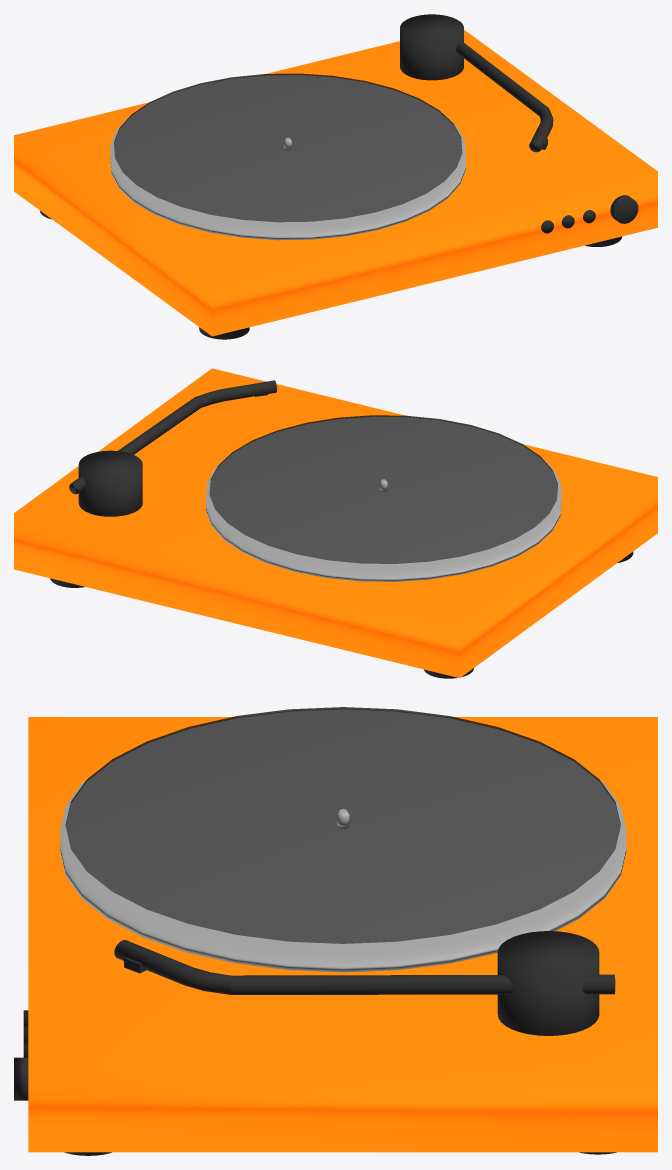
Rendered from platine.glb.
The picture shows the model from 3 angles, top to bottom: view 1: azimuth 30°, elevation 25°; view 2: azimuth 150°, elevation 25°; view 3: azimuth 270°, elevation 25°; orthographic projection. The views are drawn at different scales.
Parts seen in each view (by area): view 1: Cube, Cylinder, Cylinder011, Cylinder001, Cylinder002, Cylinder007; view 2: Cube, Cylinder, Cylinder011, Cylinder001, Cylinder002; view 3: Cube, Cylinder, Cylinder011, Cylinder001, Cylinder002, Cylinder007.
Boxes of the visible parts, left/top/right/bottom form: Cube: left=14, top=30, right=657, bottom=336; Cylinder: left=110, top=75, right=465, bottom=240; Cylinder011: left=114, top=73, right=462, bottom=222; Cylinder001: left=400, top=14, right=463, bottom=80; Cylinder002: left=456, top=41, right=553, bottom=152; Cylinder007: left=610, top=195, right=638, bottom=223; Cube: left=14, top=368, right=657, bottom=678; Cylinder: left=206, top=416, right=561, bottom=581; Cylinder011: left=209, top=415, right=557, bottom=563; Cylinder001: left=78, top=450, right=142, bottom=516; Cylinder002: left=69, top=380, right=276, bottom=494; Cube: left=28, top=717, right=657, bottom=1152; Cylinder: left=60, top=709, right=626, bottom=972; Cylinder011: left=65, top=707, right=620, bottom=943; Cylinder001: left=497, top=931, right=599, bottom=1035; Cylinder002: left=114, top=940, right=615, bottom=994; Cylinder007: left=14, top=1057, right=28, bottom=1100.
Size of the model in its own units: 2.89 by 0.6752 by 2.28.
